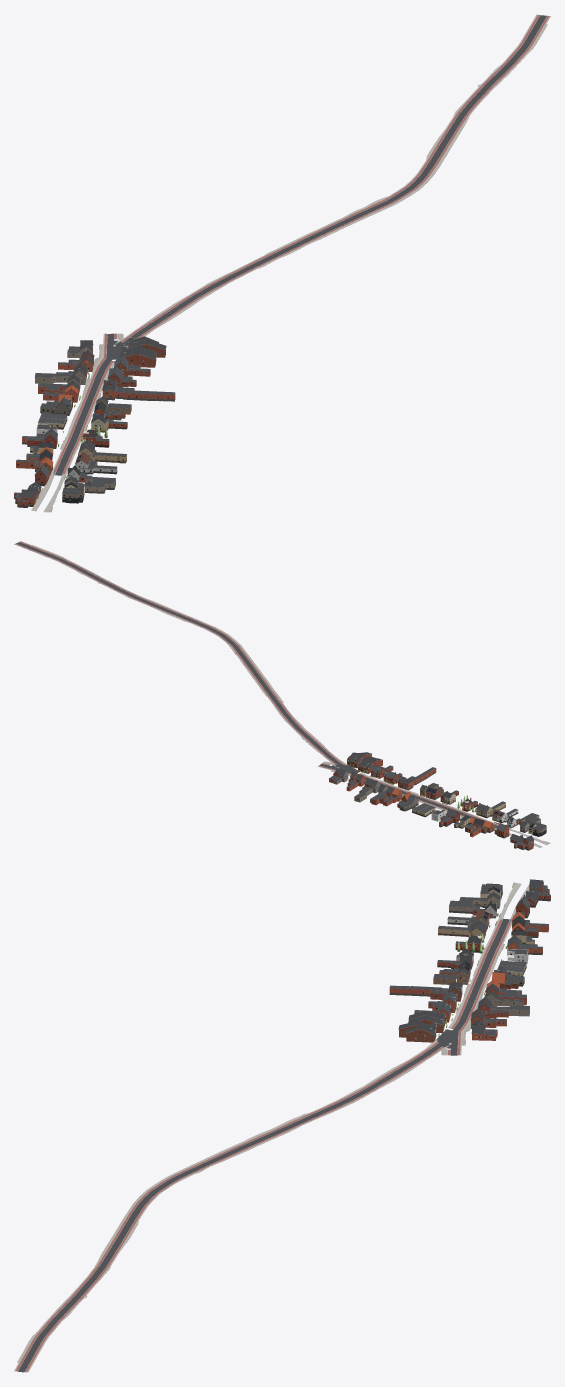
The model's file is molenhoek.glb.
3 views of the same model, one above another, from view 1: azimuth 90°, elevation 25°; view 2: azimuth 150°, elevation 25°; view 3: azimuth 270°, elevation 25° (orthographic). The views are drawn at different scales.
Visible parts, largest first — view 1: mh_asphalt, mh_stone, mh_brick, mh_pavers, mh_roof, mh_render; view 2: mh_asphalt, mh_brick, mh_stone, mh_pavers, mh_roof, mh_glass; view 3: mh_asphalt, mh_stone, mh_brick, mh_pavers, mh_roof.
Part boxes in pixels (x1,y1,x2,y2): mh_asphalt: [53, 14, 549, 475]; mh_stone: [14, 15, 549, 511]; mh_brick: [14, 340, 175, 505]; mh_pavers: [31, 14, 550, 512]; mh_roof: [21, 336, 166, 497]; mh_render: [36, 419, 117, 503]; mh_asphalt: [15, 541, 498, 827]; mh_brick: [329, 754, 546, 849]; mh_stone: [19, 542, 546, 850]; mh_pavers: [14, 541, 550, 847]; mh_roof: [336, 752, 534, 842]; mh_glass: [331, 761, 544, 848]; mh_asphalt: [15, 918, 511, 1372]; mh_stone: [15, 883, 550, 1371]; mh_brick: [389, 882, 550, 1042]; mh_pavers: [14, 882, 529, 1372]; mh_roof: [398, 879, 542, 1035].
Bounding box in the file's own units: 868 × 15.53 × 399.
